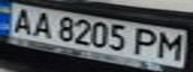0: (90, 19, 112, 51)
2: (69, 16, 93, 47)
5: (109, 21, 133, 53)
8: (51, 14, 75, 43)
A: (6, 6, 39, 35), (27, 9, 57, 38)
M: (154, 29, 190, 61)
P: (130, 26, 163, 56)
